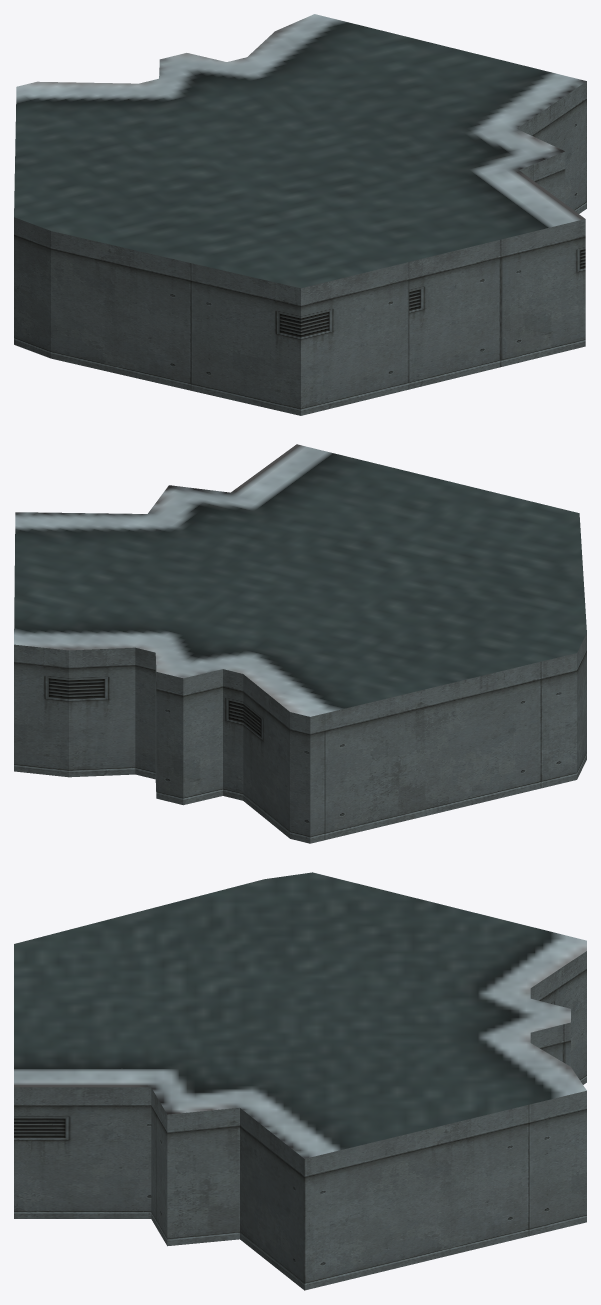
File: medium_roof58.glb
The picture shows the model from 3 angles, top to bottom: view 1: azimuth 30°, elevation 25°; view 2: azimuth 150°, elevation 25°; view 3: azimuth 270°, elevation 25°; orthographic projection. The views are drawn at different scales.
Visible parts, largest first — view 1: buildings/saxarba/medium/medium_roof58; view 2: buildings/saxarba/medium/medium_roof58; view 3: buildings/saxarba/medium/medium_roof58.
Boxes of the visible parts, x1,y1,x2,y2 form: buildings/saxarba/medium/medium_roof58: [14, 14, 586, 415]; buildings/saxarba/medium/medium_roof58: [14, 444, 586, 843]; buildings/saxarba/medium/medium_roof58: [14, 872, 586, 1290].
Size of the model in its own units: 84 by 18 by 71.
